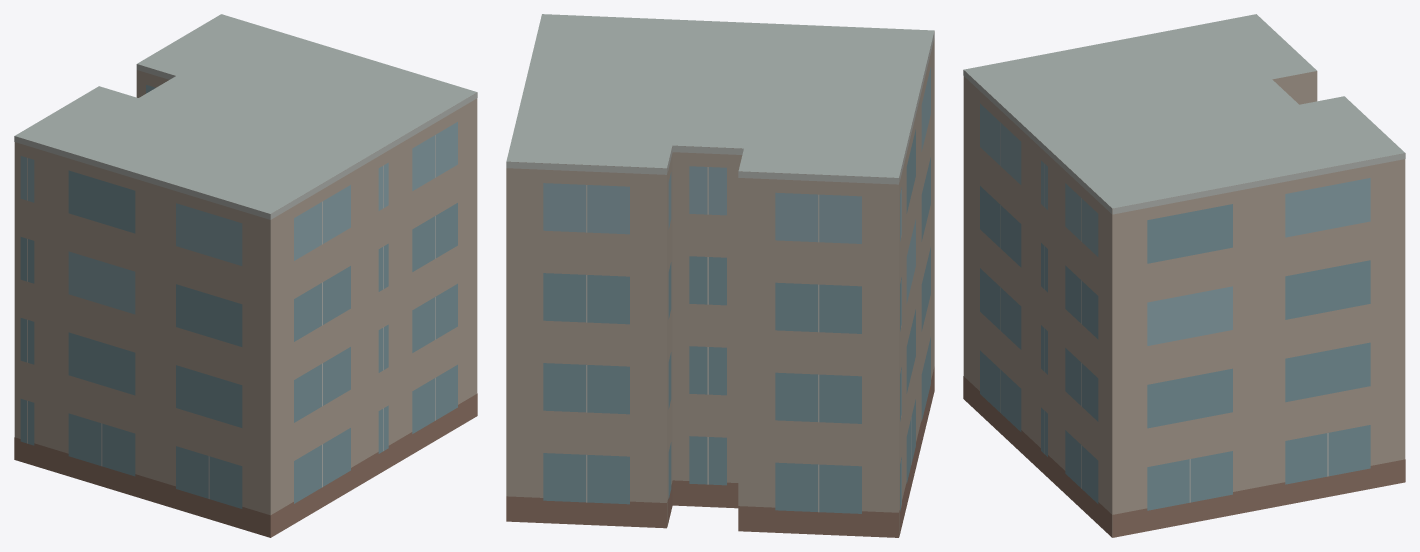
File: survey-upis-32904962.glb
The picture shows the model from 3 angles, left to right: view 1: azimuth 30°, elevation 25°; view 2: azimuth 150°, elevation 25°; view 3: azimuth 270°, elevation 25°; orthographic projection. The views are drawn at different scales.
Parts seen in each view (by area): view 1: survey-upis-32904962.tmp; view 2: survey-upis-32904962.tmp; view 3: survey-upis-32904962.tmp.
Boxes of the visible parts, x1=… form: survey-upis-32904962.tmp: x1=14, y1=14, x2=477, y2=537; survey-upis-32904962.tmp: x1=506, y1=14, x2=934, y2=537; survey-upis-32904962.tmp: x1=963, y1=14, x2=1405, y2=537.
Size of the model in its own units: 16.86 by 13.3 by 16.18.
